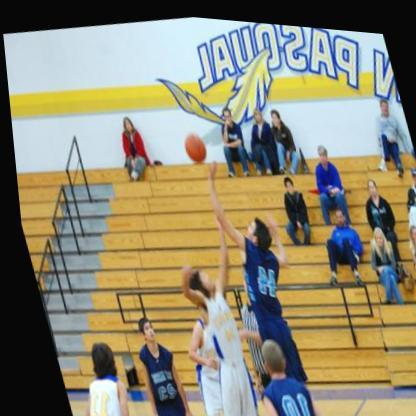basketball: (178, 128, 207, 163)
